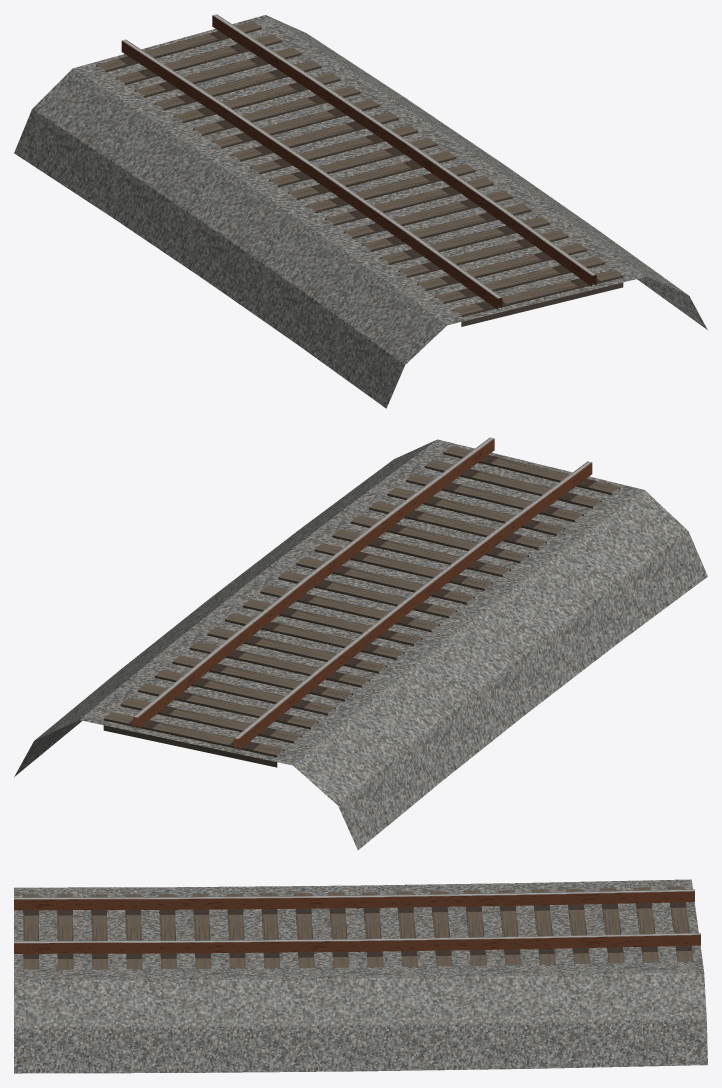
The model's file is rail_track_curve_r175_10m_l_v2_quest.glb.
The picture shows the model from 3 angles, top to bottom: view 1: azimuth 30°, elevation 25°; view 2: azimuth 150°, elevation 25°; view 3: azimuth 270°, elevation 25°; orthographic projection. The views are drawn at different scales.
Visible parts, largest first — view 1: rail_track_curve_r175_10m_l_v2_quest; view 2: rail_track_curve_r175_10m_l_v2_quest; view 3: rail_track_curve_r175_10m_l_v2_quest.
Part boxes in pixels (x1=…): rail_track_curve_r175_10m_l_v2_quest: x1=14, y1=14, x2=707, y2=408; rail_track_curve_r175_10m_l_v2_quest: x1=14, y1=437, x2=707, y2=849; rail_track_curve_r175_10m_l_v2_quest: x1=14, y1=879, x2=707, y2=1073.
Size of what is drawn, in the model's own units: 5.43 by 1.27 by 10.14.
2 materials, 2 textured.
